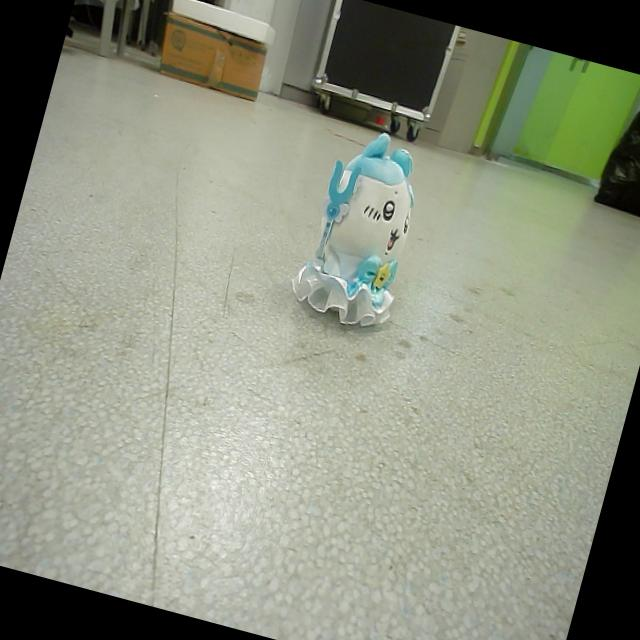xiaoba: (288, 120, 442, 343)
